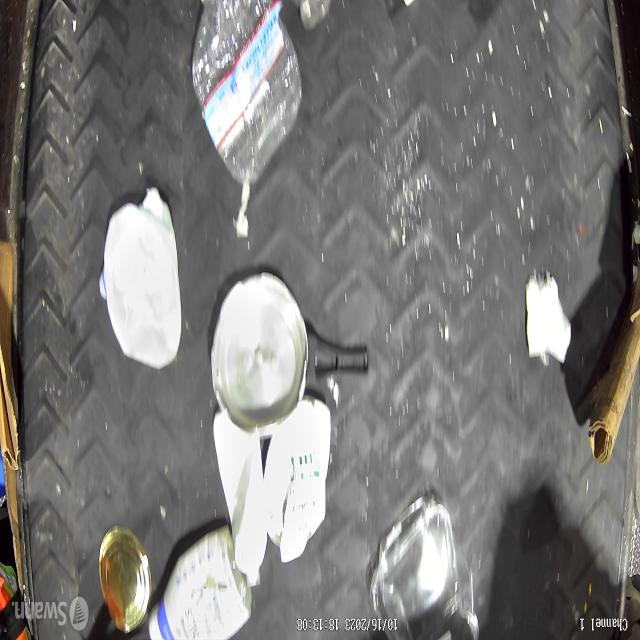can: (99, 525, 152, 634)
milk_jug: (100, 188, 182, 369), (148, 526, 252, 640), (267, 397, 330, 562), (213, 409, 267, 587)
plastic_bottle: (190, 0, 302, 185)
